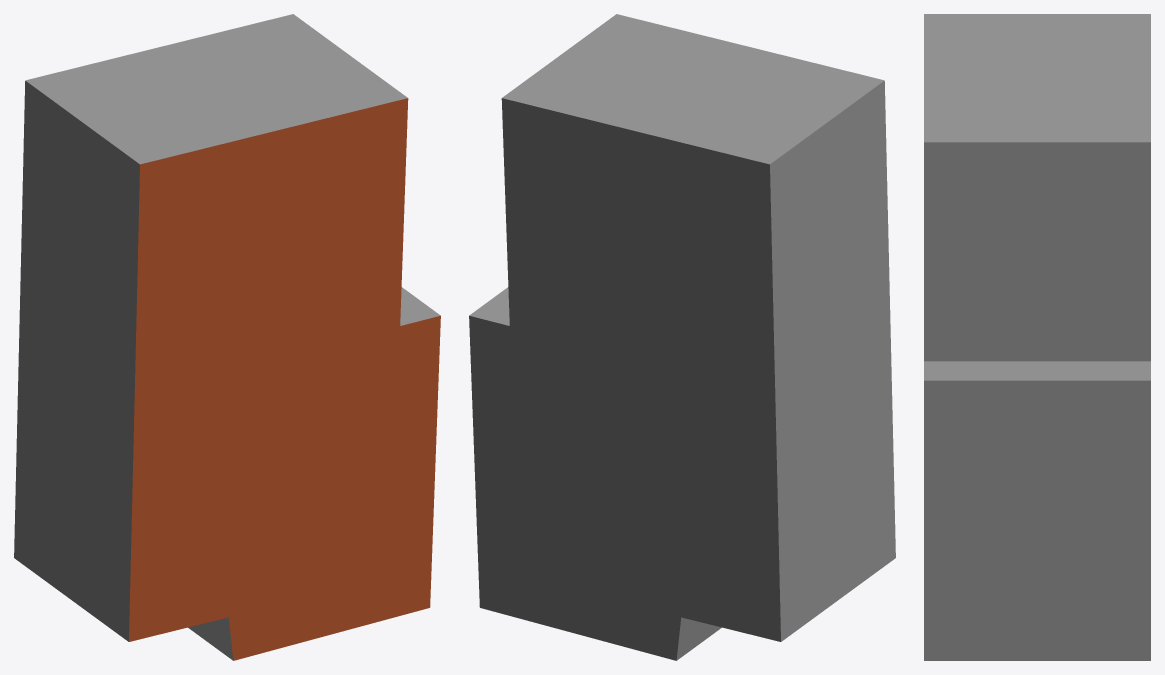
Rendered from construction_4029_assumed_A_Casa_h6m.obj.
3 views of the same model, side by side, from view 1: azimuth 30°, elevation 25°; view 2: azimuth 150°, elevation 25°; view 3: azimuth 270°, elevation 25° (orthographic).
Parts seen in each view (by area): view 1: construction_4029_assumed_A_Casa; view 2: construction_4029_assumed_A_Casa; view 3: construction_4029_assumed_A_Casa.
Boxes of the visible parts, x1,y1,x2,y2 form: construction_4029_assumed_A_Casa: (14, 14, 440, 660); construction_4029_assumed_A_Casa: (469, 14, 895, 660); construction_4029_assumed_A_Casa: (924, 14, 1150, 660).
Bounding box in the file's own units: 9.41 × 14.99 × 6.
